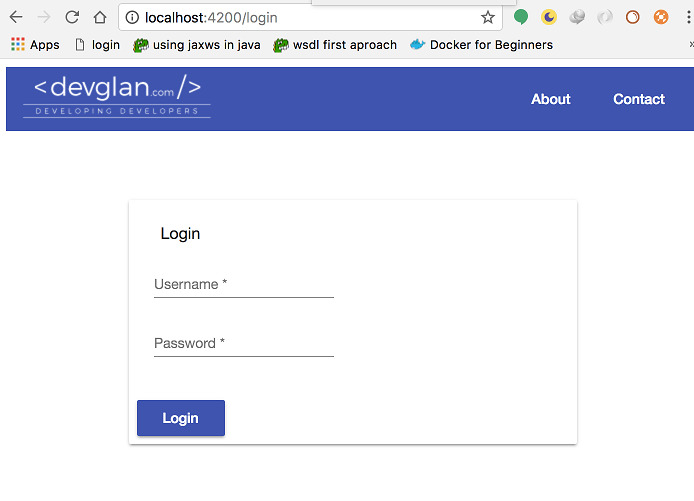button: (136, 399, 227, 437)
field: (117, 3, 504, 32)
field_line: (151, 274, 335, 299), (152, 336, 335, 359)
